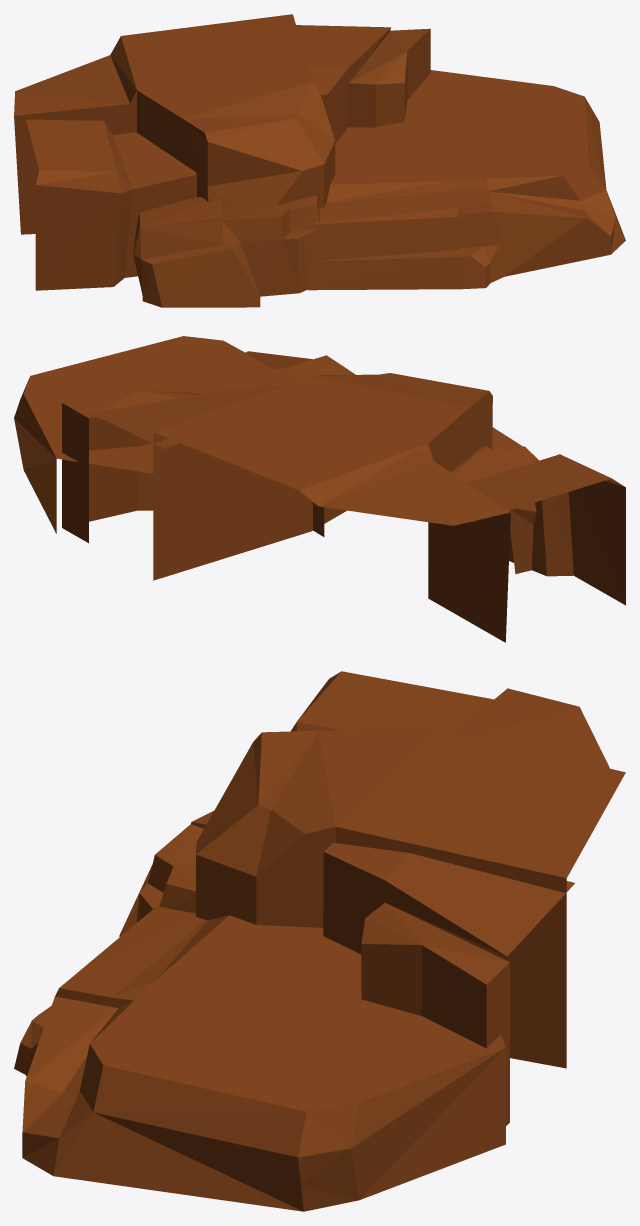
Rendered from Rock_2.fbx.
3 renders of one model, top to bottom at view 1: azimuth 30°, elevation 25°; view 2: azimuth 150°, elevation 25°; view 3: azimuth 270°, elevation 25°, orthographic. The views are drawn at different scales.
Visible parts, largest first — view 1: Cube.006; view 2: Cube.006; view 3: Cube.006.
Boxes of the visible parts, x1=… form: Cube.006: x1=14, y1=14, x2=625, y2=307; Cube.006: x1=14, y1=336, x2=625, y2=642; Cube.006: x1=14, y1=671, x2=625, y2=1211.
Bounding box in the file's own units: 4461 × 1080 × 2983.
